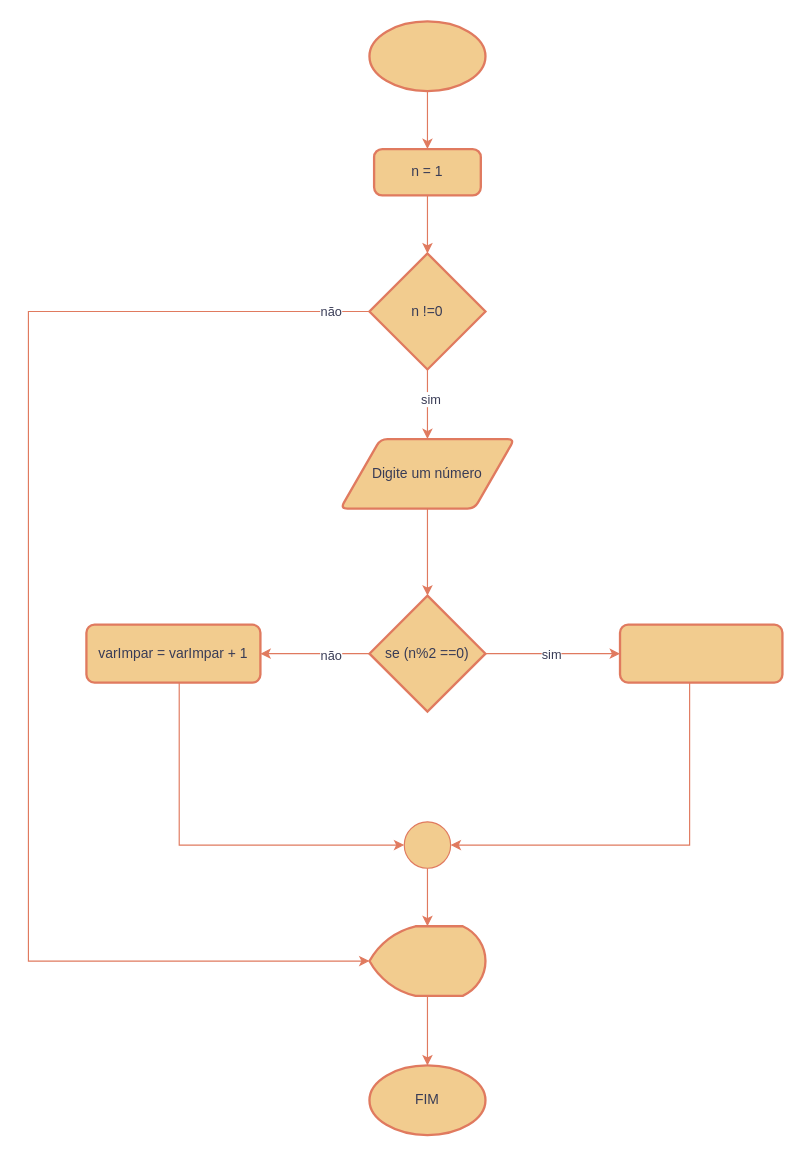
This 804x1155 diagram has some shape labels left out. Here are the shapes that lost their labels. From the top down, the box of each, then its label:
(368, 20, 486, 92): INICIO
(618, 623, 783, 683): varPar = varPar + 1
(368, 925, 486, 996): varPar varImpar
